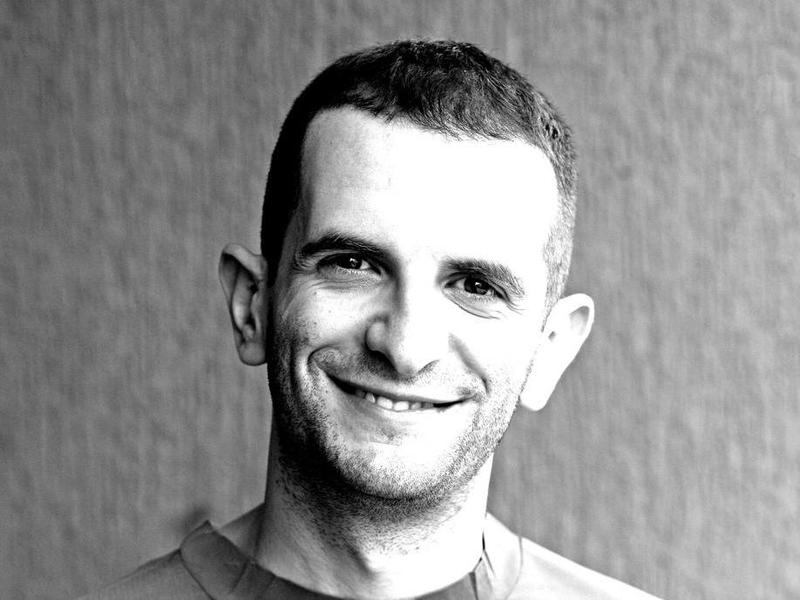person: (132, 36, 618, 597)
